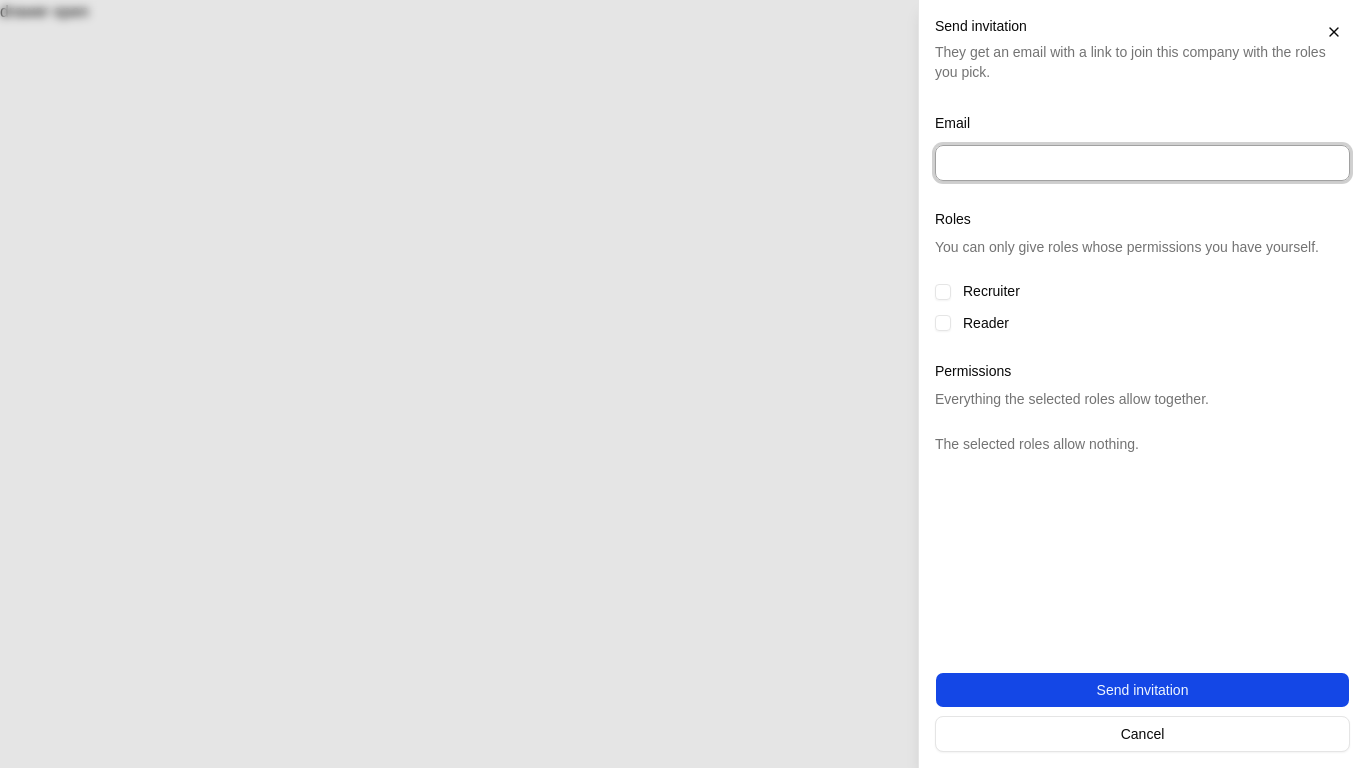
Test: InviteDrawer › asks before discarding a ticked role too
Step 1. Click the checkbox named "Recruiter" next to "Recruiter" → [943, 292], box [935,284,951,300]
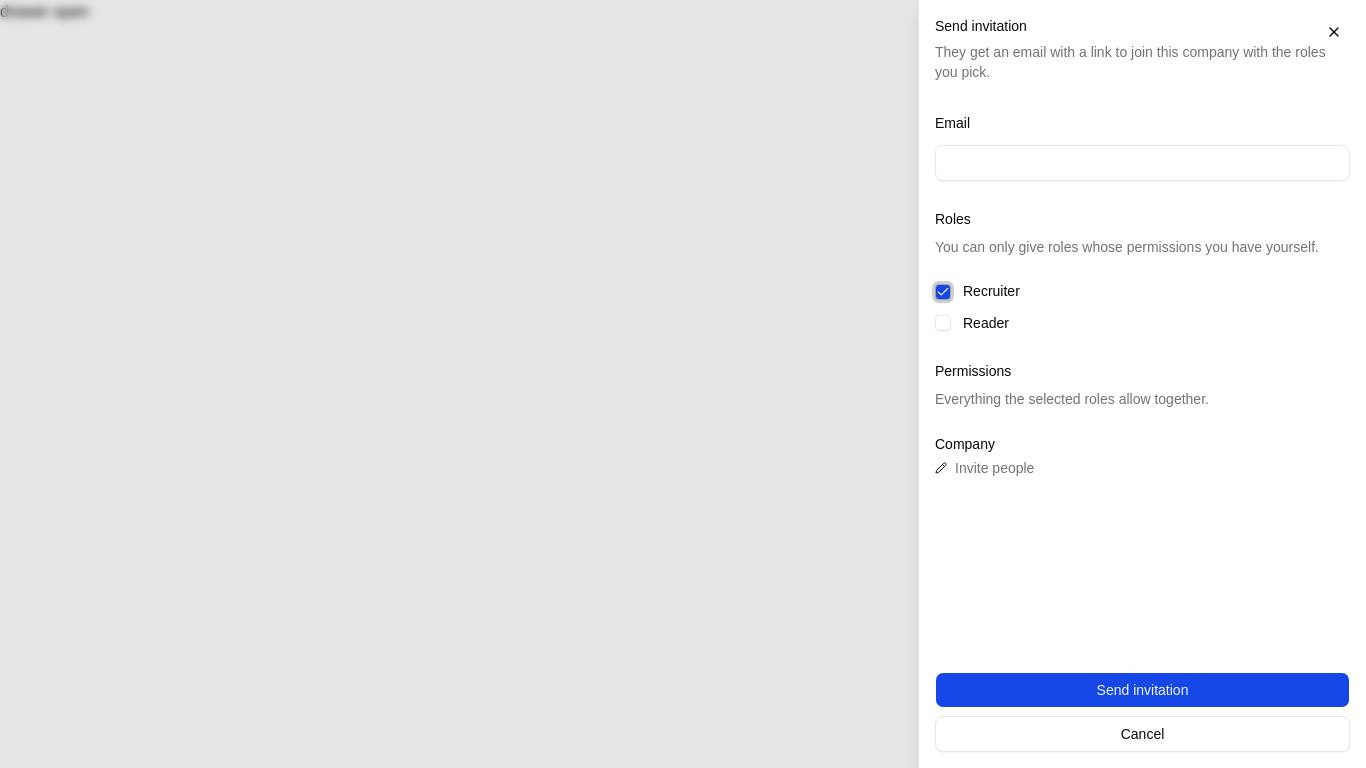
Step 2. Click the button "Cancel" → [1142, 734], box [935,716,1350,752]
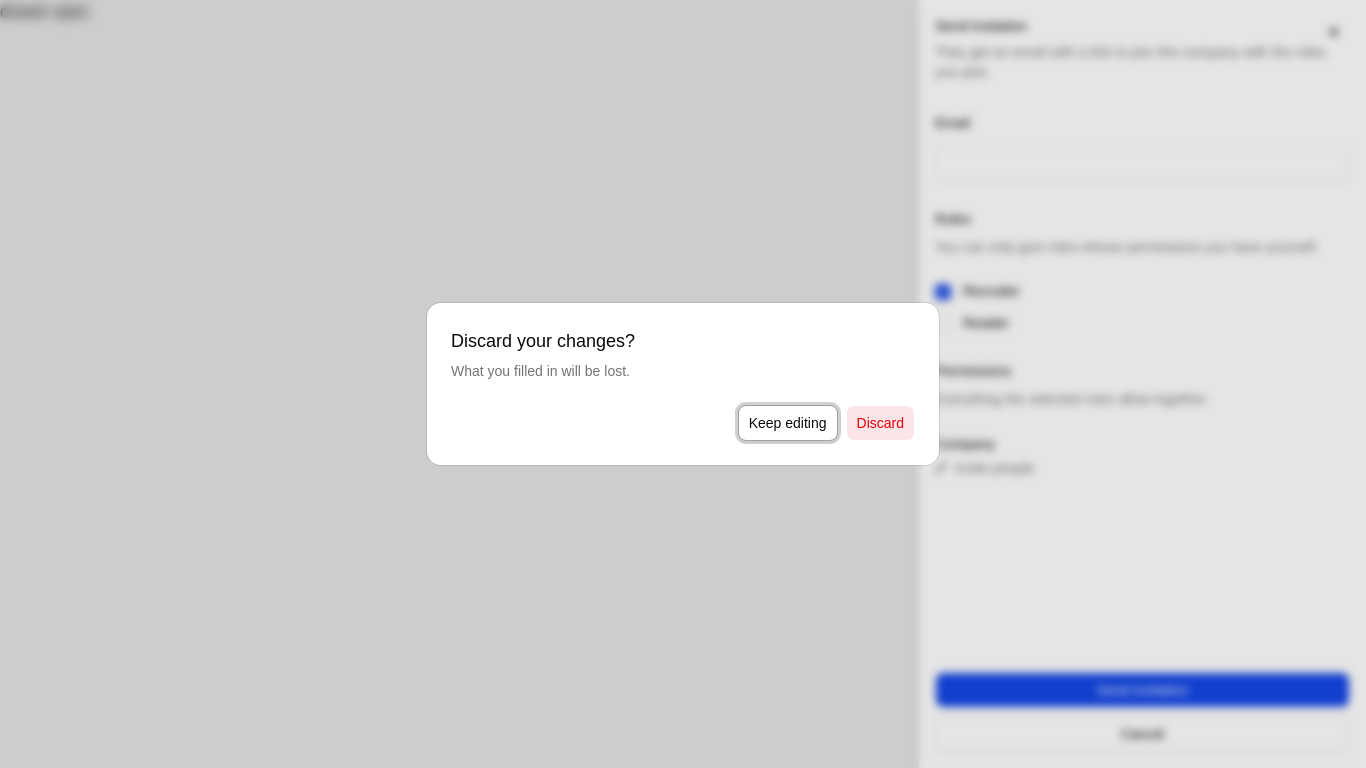
Expected: the heading "Discard your changes?" is shown, [451,327,635,355]
